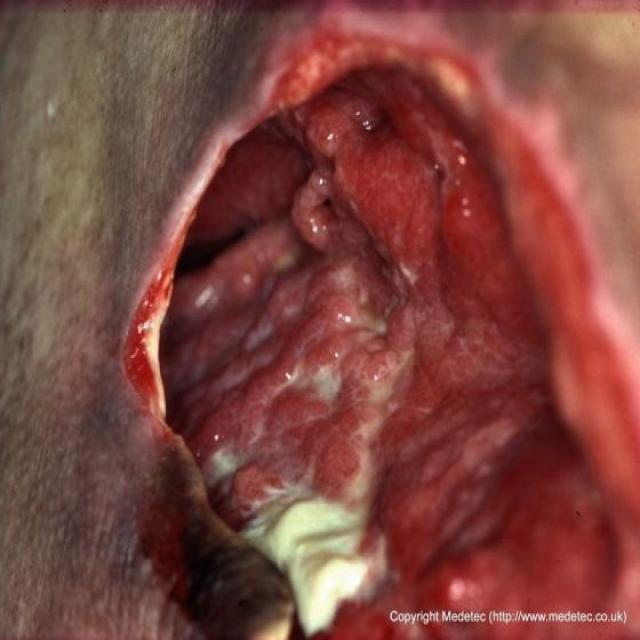stage-4: (121, 41, 640, 635)
